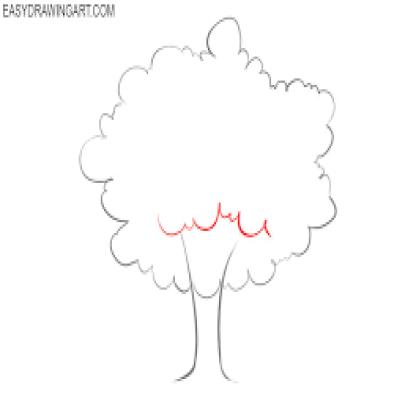crown_cloud: (79, 19, 337, 292)
trunk_straight: (190, 297, 226, 370)
